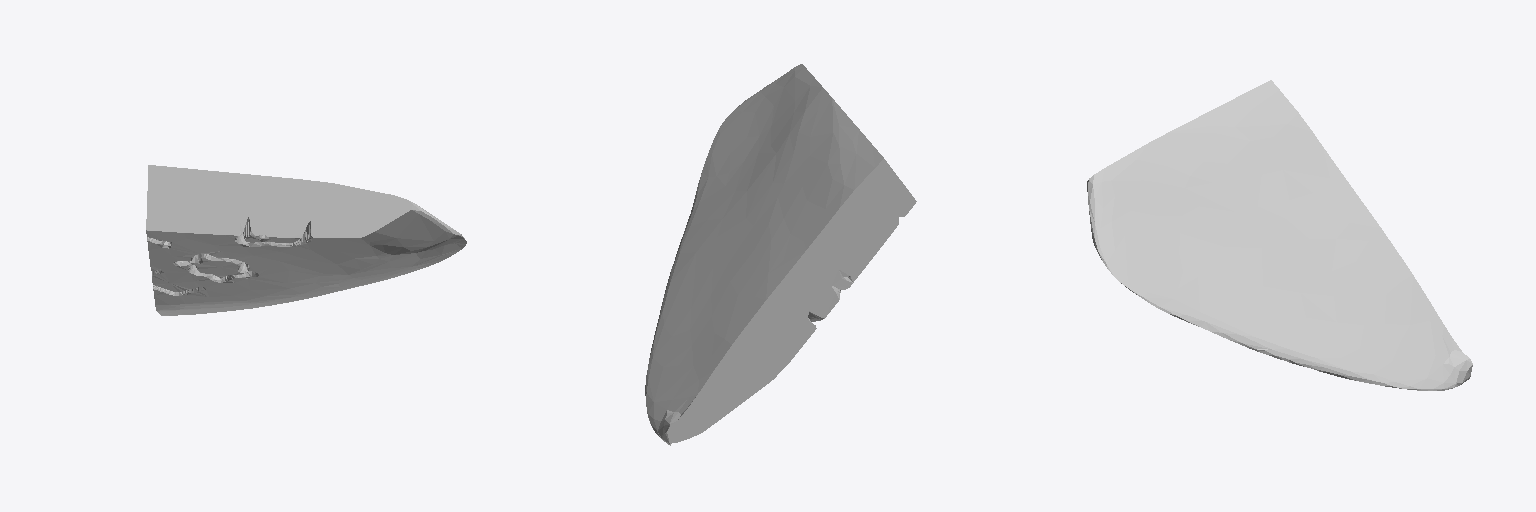
3 views of the same model, side by side, from view 1: azimuth 30°, elevation 25°; view 2: azimuth 150°, elevation 25°; view 3: azimuth 270°, elevation 25° (orthographic).
Visible parts, largest first — view 1: ZBrush_defualt_group; view 2: ZBrush_defualt_group; view 3: ZBrush_defualt_group.
Part boxes in pixels (x1,y1,x2,y2): ZBrush_defualt_group: (146, 165, 466, 315); ZBrush_defualt_group: (645, 64, 916, 445); ZBrush_defualt_group: (1087, 80, 1472, 390).
Size of the model in its own units: 1.67 by 1.5 by 2.16.